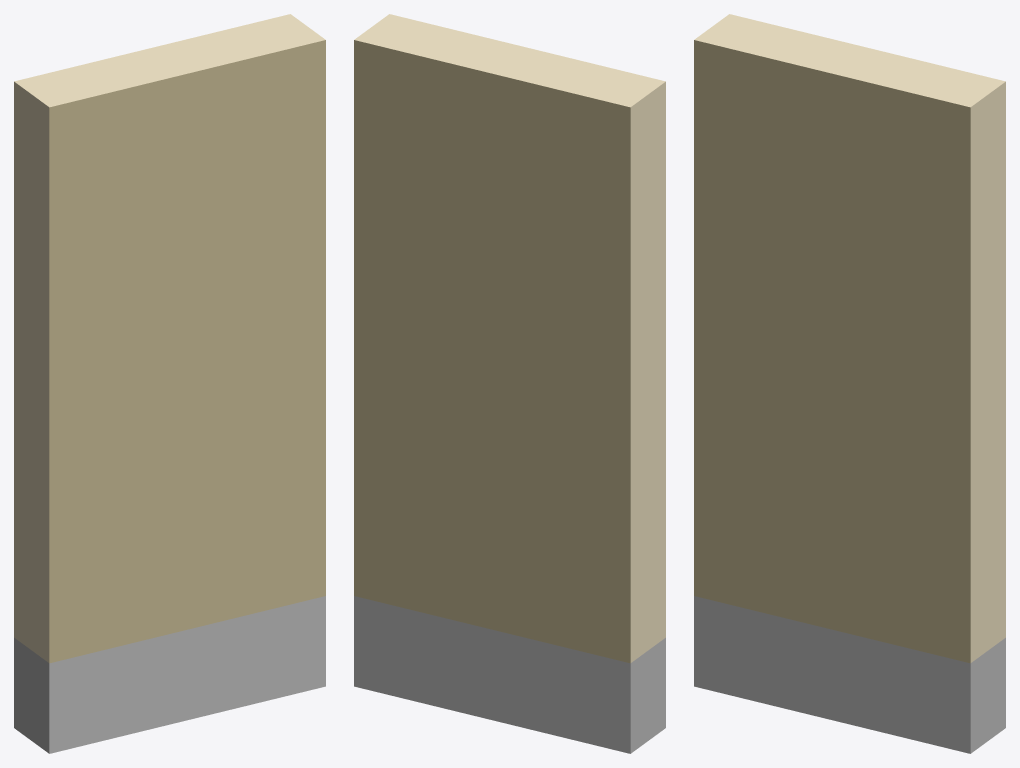
The model's file is Wall.fbx.
3 renders of one model, left to right at view 1: azimuth 30°, elevation 25°; view 2: azimuth 150°, elevation 25°; view 3: azimuth 330°, elevation 25°, orthographic.
Parts seen in each view (by area): view 1: Wall; view 2: Wall; view 3: Wall.
Boxes of the visible parts, x1,y1,x2,y2 form: Wall: [14, 14, 325, 753]; Wall: [354, 14, 665, 753]; Wall: [694, 14, 1005, 753].
Size of the model in its own units: 141 by 315 by 31.34.
